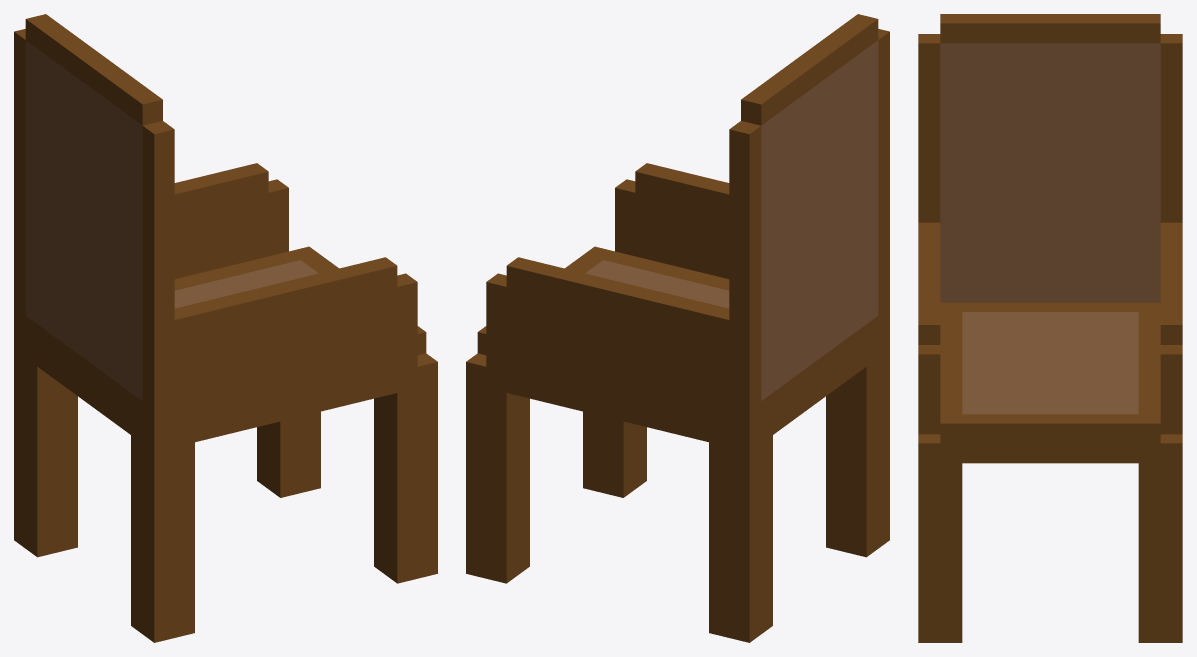
File: Chair_girl.obj
3 views of the same model, side by side, from view 1: azimuth 30°, elevation 25°; view 2: azimuth 150°, elevation 25°; view 3: azimuth 270°, elevation 25° (orthographic). The views are drawn at different scales.
Size of the model in its own units: 1.4 by 2.5 by 1.2.
1 material, 1 textured.
